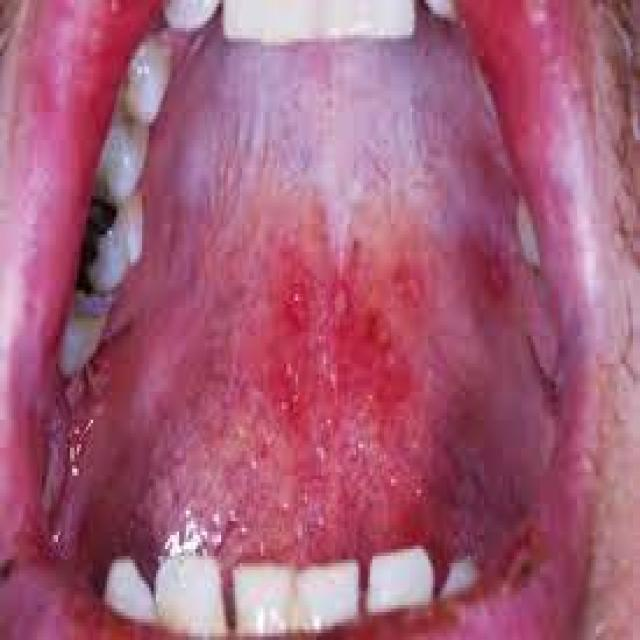processing_area: (35, 0, 569, 608)
ulcer-detection: (111, 375, 431, 554)
